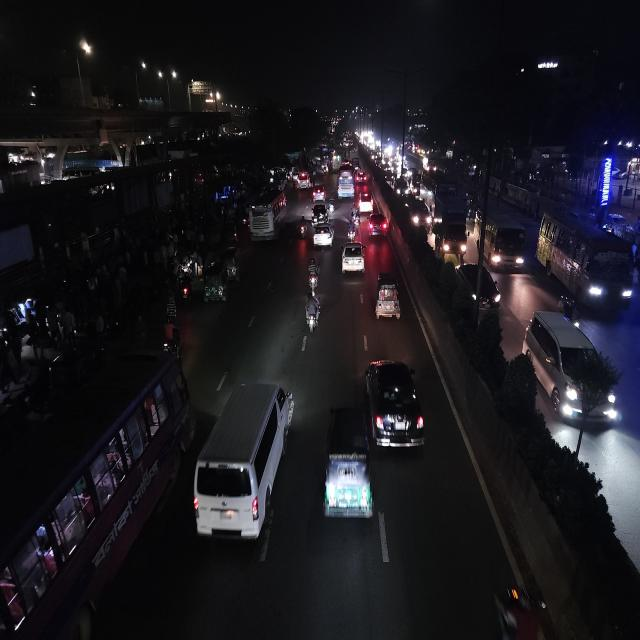bus: (0, 348, 186, 640), (535, 206, 636, 314), (474, 206, 527, 272), (247, 188, 289, 245), (336, 163, 355, 200)
car: (192, 376, 296, 553), (521, 308, 625, 431), (362, 354, 428, 459), (453, 260, 502, 314), (404, 195, 432, 237), (340, 239, 366, 280), (367, 208, 390, 240), (312, 221, 333, 251), (311, 199, 329, 226), (358, 186, 374, 213), (394, 177, 409, 198), (296, 171, 310, 189), (311, 184, 325, 201), (383, 169, 394, 186)
cng: (317, 403, 375, 531), (373, 269, 403, 327), (202, 259, 230, 306), (224, 246, 241, 283)
motorcycle: (302, 289, 322, 338), (557, 293, 581, 326), (177, 266, 194, 304), (305, 256, 321, 293), (298, 214, 308, 242), (346, 220, 356, 242), (352, 206, 362, 226)
truck: (430, 194, 470, 258), (373, 270, 403, 328)
